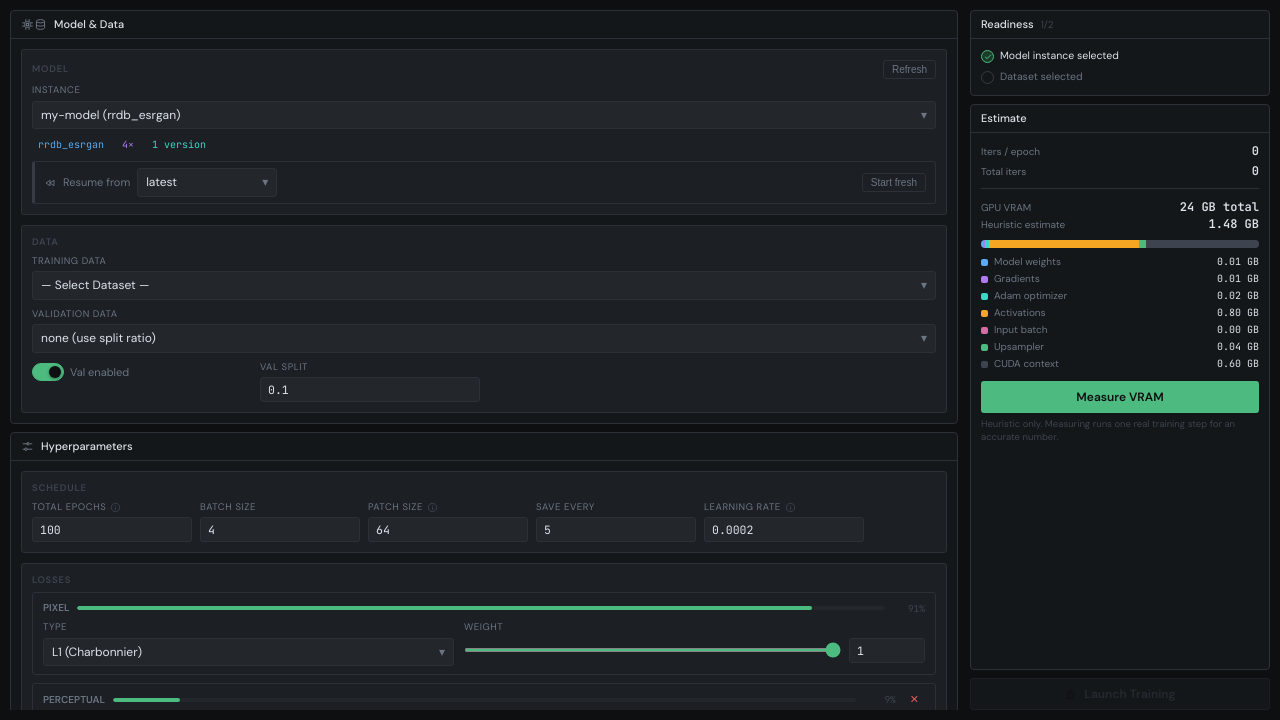
Test case: Training Setup (26.9) › shows a note when measured VRAM exceeds the heuristic estimate
Click the button "Measure VRAM" at (1120, 397), box [981,381,1259,413]
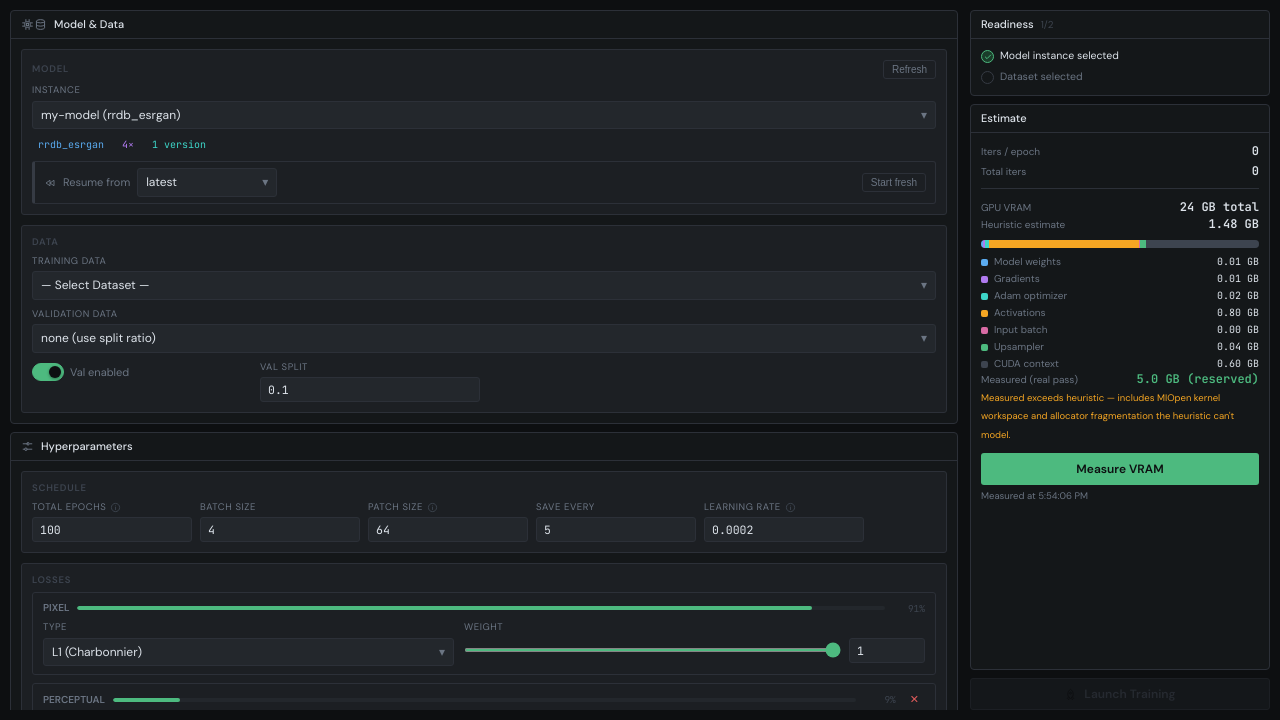
Expected: the text "5.0 GB (reserved)" is shown, [1137,371,1259,388]
Expected: the text "Measured exceeds heuristic" is shown, [981,392,1234,440]
